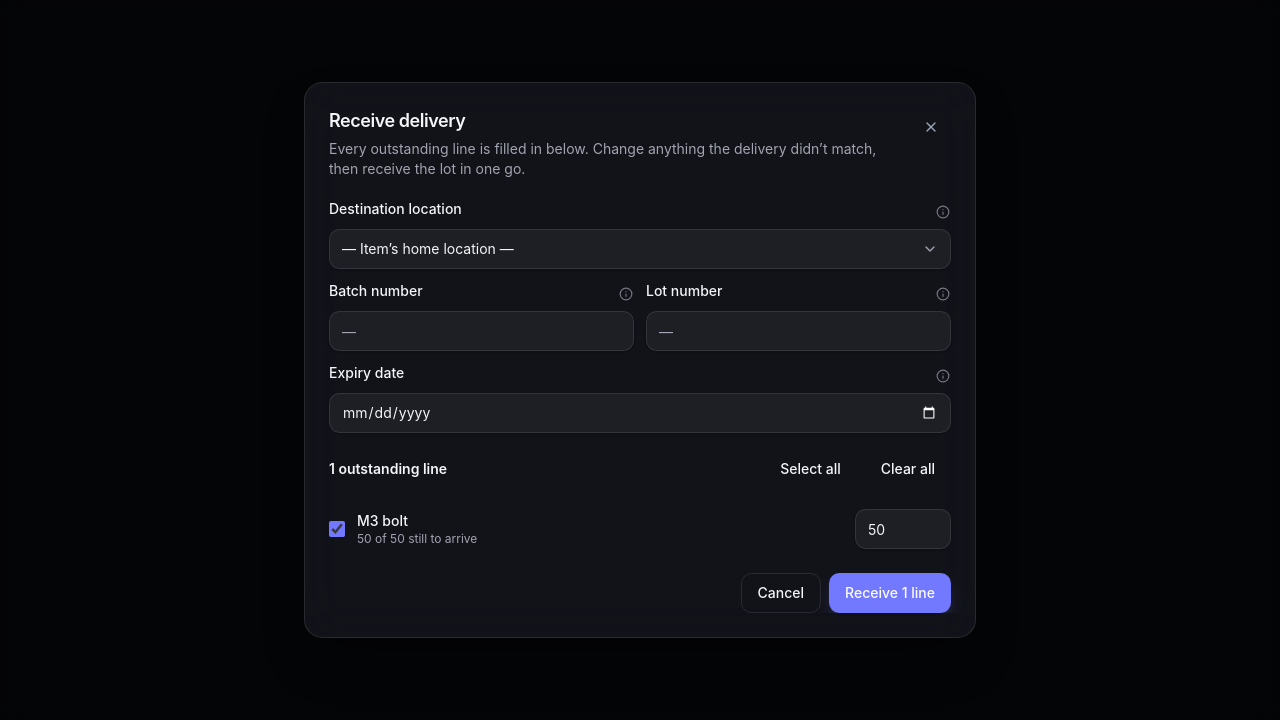
Test case: ReceiveDeliveryDialog — the whole delivery arrived › refuses to submit with nothing ticked, rather than receiving an empty delivery
Click the button with test id "po-delivery-clear-all" at (908, 469), box [865,449,951,489]
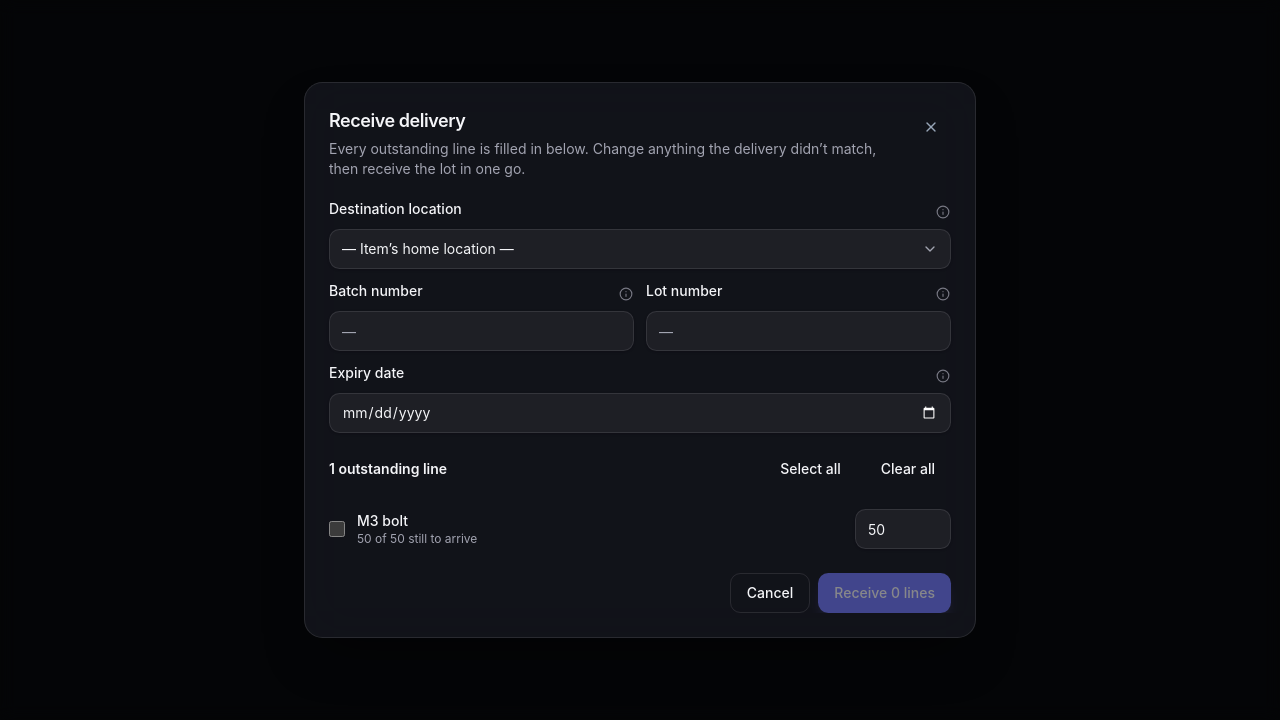
Check: the button with test id "po-delivery-save" is disabled, box [818,573,951,613]
Submit the form with test id "po-receive-delivery-form", box [329,199,951,613]
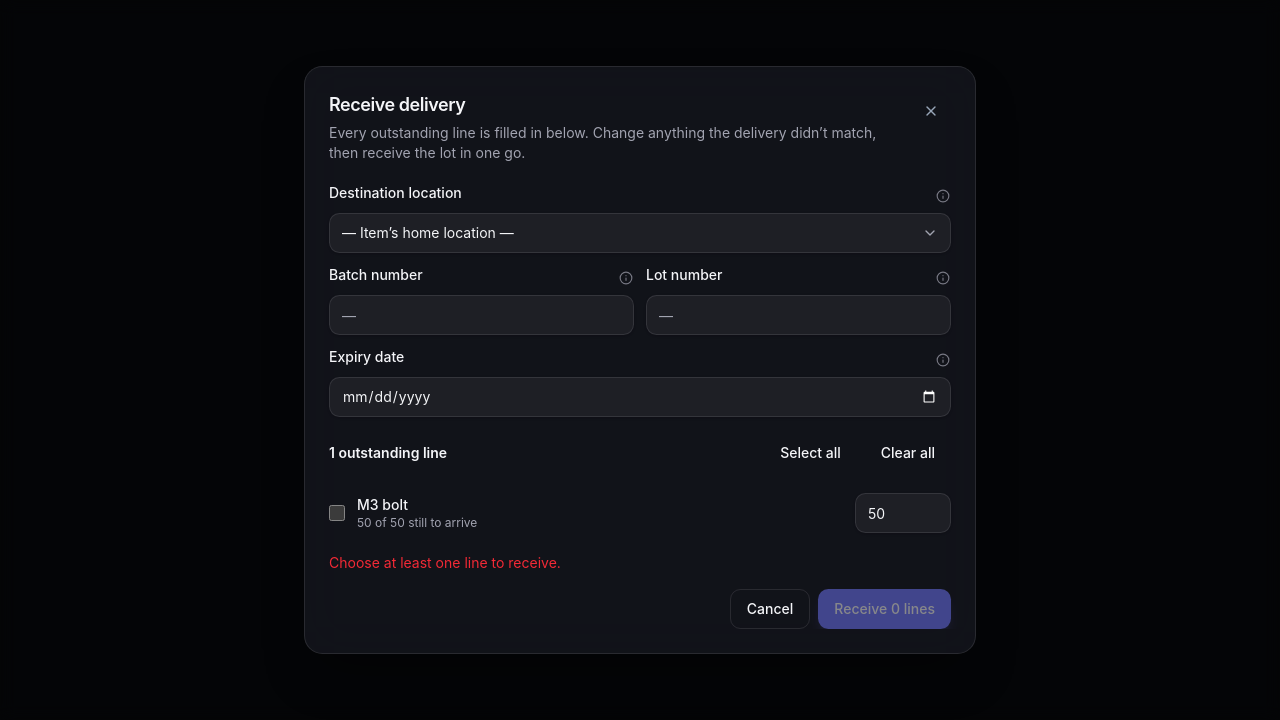
Check: the message "Choose at least one line to receive." is shown, box [329,554,561,571]
